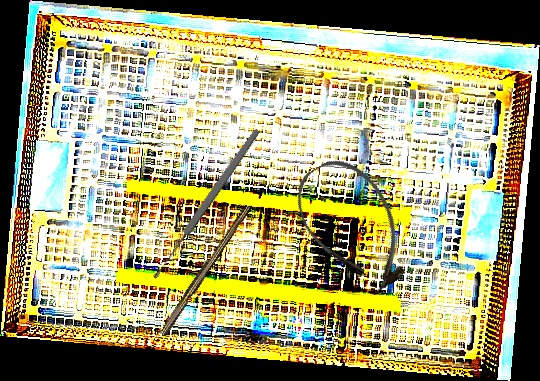Cannula: (281, 145, 425, 308)
Scalpel Handle: (157, 201, 252, 339)
Surgical Spoon: (150, 127, 262, 281)
